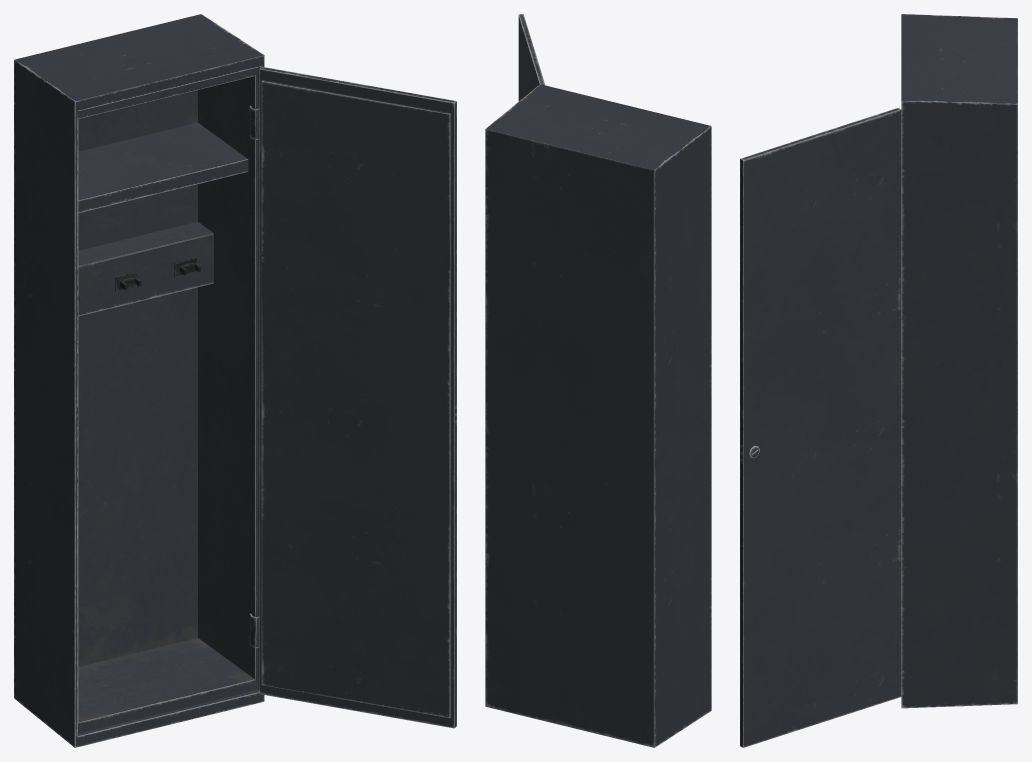
The picture shows the model from 3 angles, left to right: view 1: azimuth 30°, elevation 25°; view 2: azimuth 150°, elevation 25°; view 3: azimuth 270°, elevation 25°; orthographic projection. The views are drawn at different scales.
Visible parts, largest first — view 1: M.W.O.C; view 2: M.W.O.C; view 3: M.W.O.C.
Boxes of the visible parts, box(x1,y1,x2,y2) form: M.W.O.C: box(14, 14, 456, 747); M.W.O.C: box(485, 14, 711, 747); M.W.O.C: box(740, 14, 1017, 747).
Bounding box in the file's own units: 96 × 199 × 82.58.
